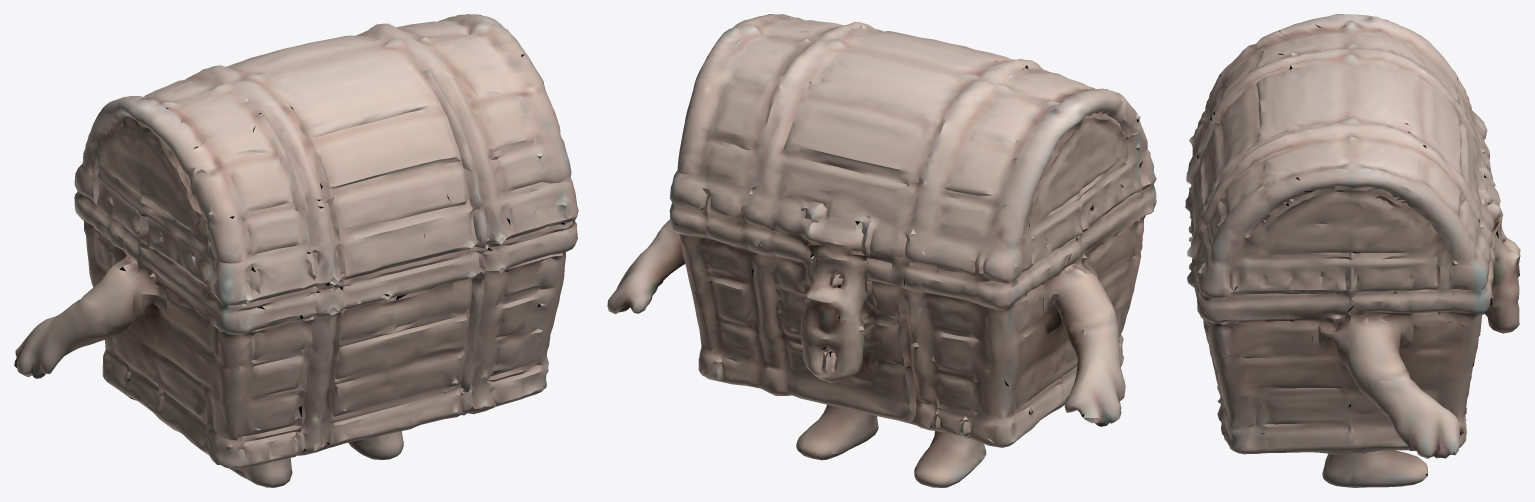
Rendered from bau.glb.
3 renders of one model, left to right at view 1: azimuth 30°, elevation 25°; view 2: azimuth 150°, elevation 25°; view 3: azimuth 270°, elevation 25°, orthographic. The views are drawn at different scales.
Parts seen in each view (by area): view 1: nanobridge_low; view 2: nanobridge_low; view 3: nanobridge_low.
Boxes of the visible parts, x1,y1,x2,y2 form: nanobridge_low: (14,14,578,487); nanobridge_low: (607,14,1156,487); nanobridge_low: (1185,14,1520,487).
Bounding box in the file's own units: 1.01 × 0.7528 × 0.6164.
Materials: 1 (1 with a texture image).
